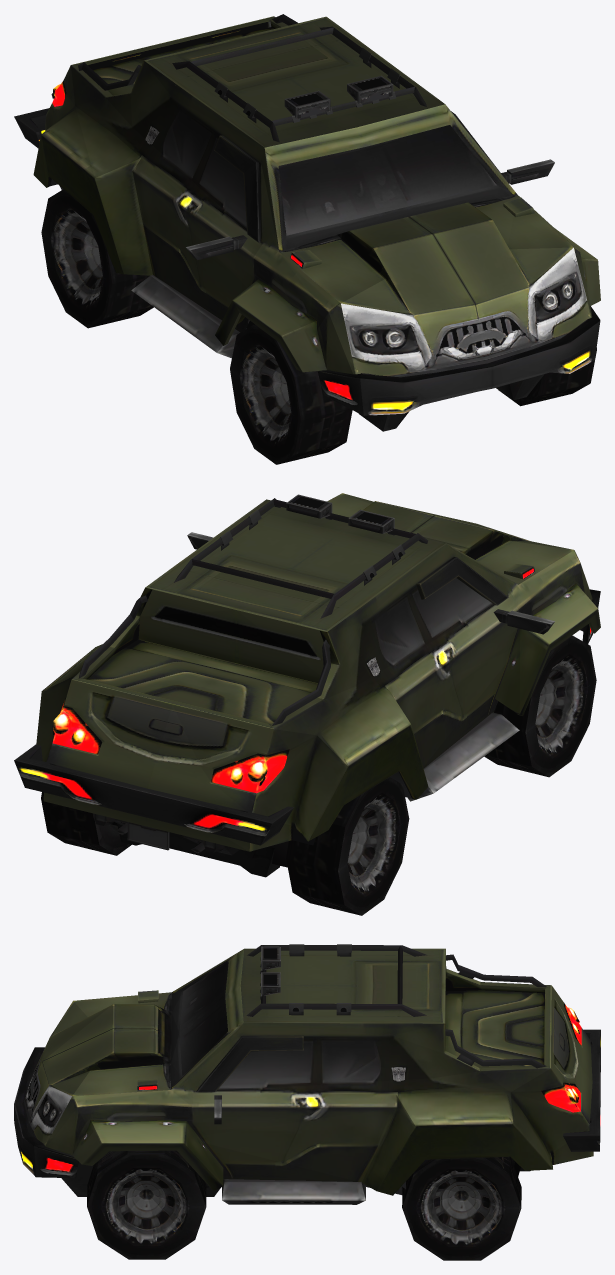
Rendered from Bulkhead_Alt.fbx.
3 views of the same model, one above another, from view 1: azimuth 30°, elevation 25°; view 2: azimuth 150°, elevation 25°; view 3: azimuth 270°, elevation 25° (orthographic). The views are drawn at different scales.
Visible parts, largest first — view 1: Bulkhead_TFP_Alt; view 2: Bulkhead_TFP_Alt; view 3: Bulkhead_TFP_Alt.
Part boxes in pixels (bbox=[...]): Bulkhead_TFP_Alt: bbox=[14, 14, 600, 464]; Bulkhead_TFP_Alt: bbox=[14, 493, 600, 915]; Bulkhead_TFP_Alt: bbox=[14, 944, 600, 1260].
Bounding box in the file's own units: 28506 × 20734 × 47398.
Materials: 1 (1 with a texture image).
